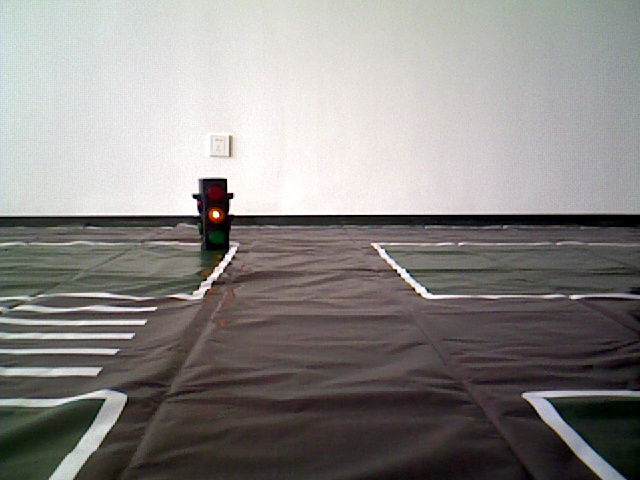yellow: (199, 172, 228, 249)
